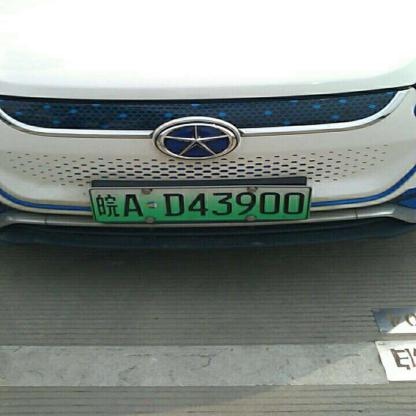lp: (90, 187, 310, 221)
